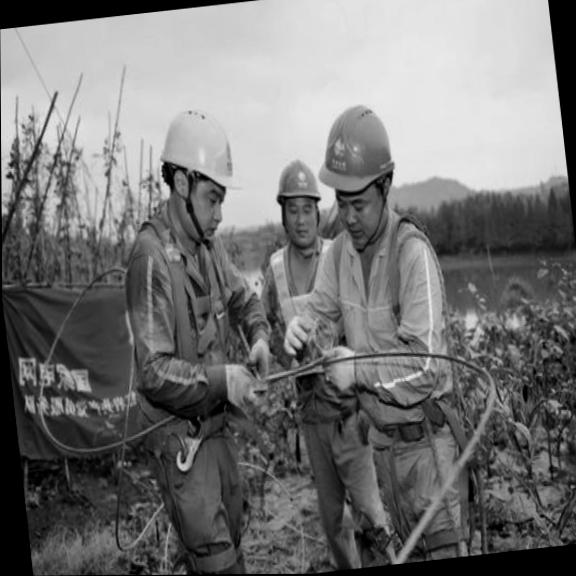no_safety_vest: (111, 222, 254, 455), (311, 213, 464, 430), (249, 233, 354, 411)
